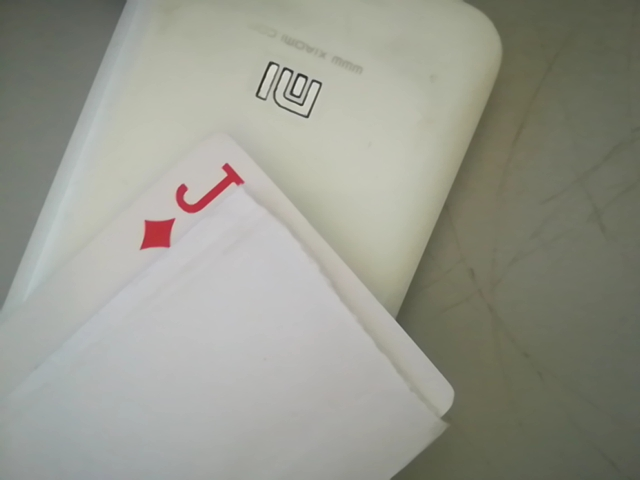fk j: (124, 160, 255, 258)
